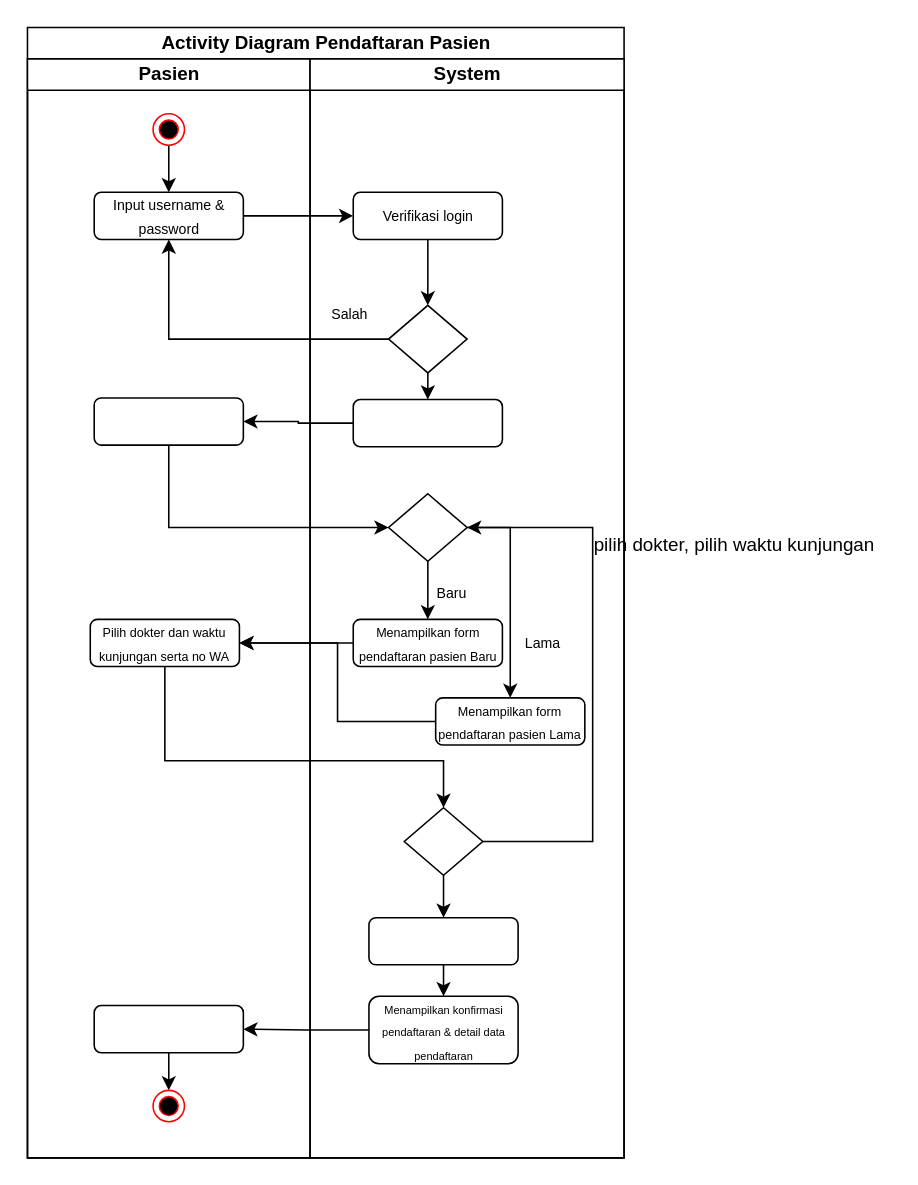
This 918x1185 diagram has some shape labels left out. The centre of each missing label's shape, as x and y in pixels:
"Data valid ?" belongs at (x=443, y=840).
"Menampilkan halaman Pasien" belongs at (x=427, y=422).
"Mendapatkan nomor antrian" belongs at (x=168, y=1028).
"Menyimpan data" belongs at (x=442, y=940).
"Pilih pendaftaran / rujukan" belongs at (x=168, y=420).
